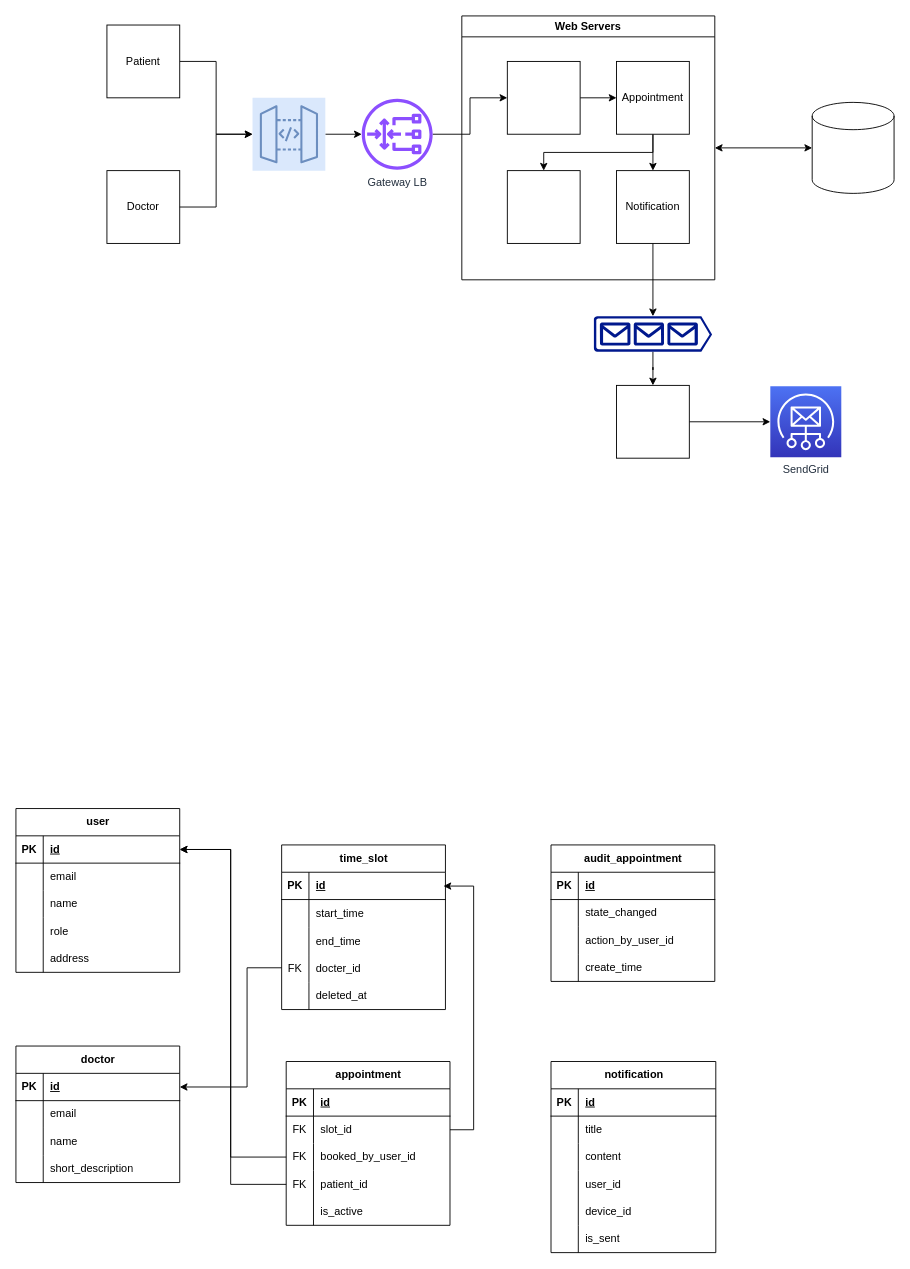
This 910x1269 diagram has some shape labels left out. Each missing label, with the centre of its shape:
API Gateway: (288,134)
Audit: (543,206)
Auth: (543,97)
DB: (852,147)
Noti Worker: (652,421)
